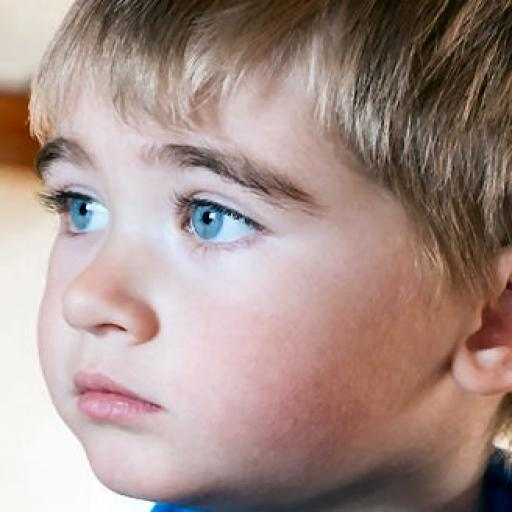Autism: (22, 4, 512, 500)
